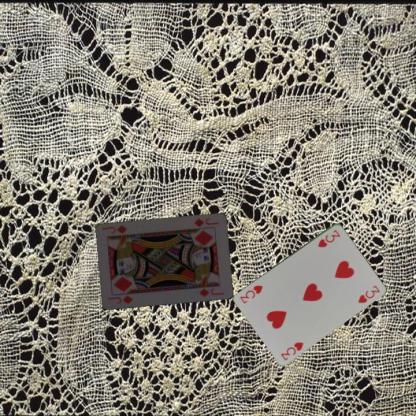3h: (278, 339, 304, 362), (316, 227, 342, 249)
Jd: (105, 293, 134, 305), (191, 216, 220, 228)
